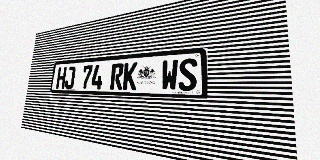4: (91, 64, 104, 89)
7: (80, 65, 93, 89)
H: (56, 67, 67, 89)
J: (64, 66, 76, 89)
K: (123, 62, 138, 90)
R: (110, 63, 124, 90)
S: (178, 58, 197, 91)
W: (161, 59, 178, 91)
